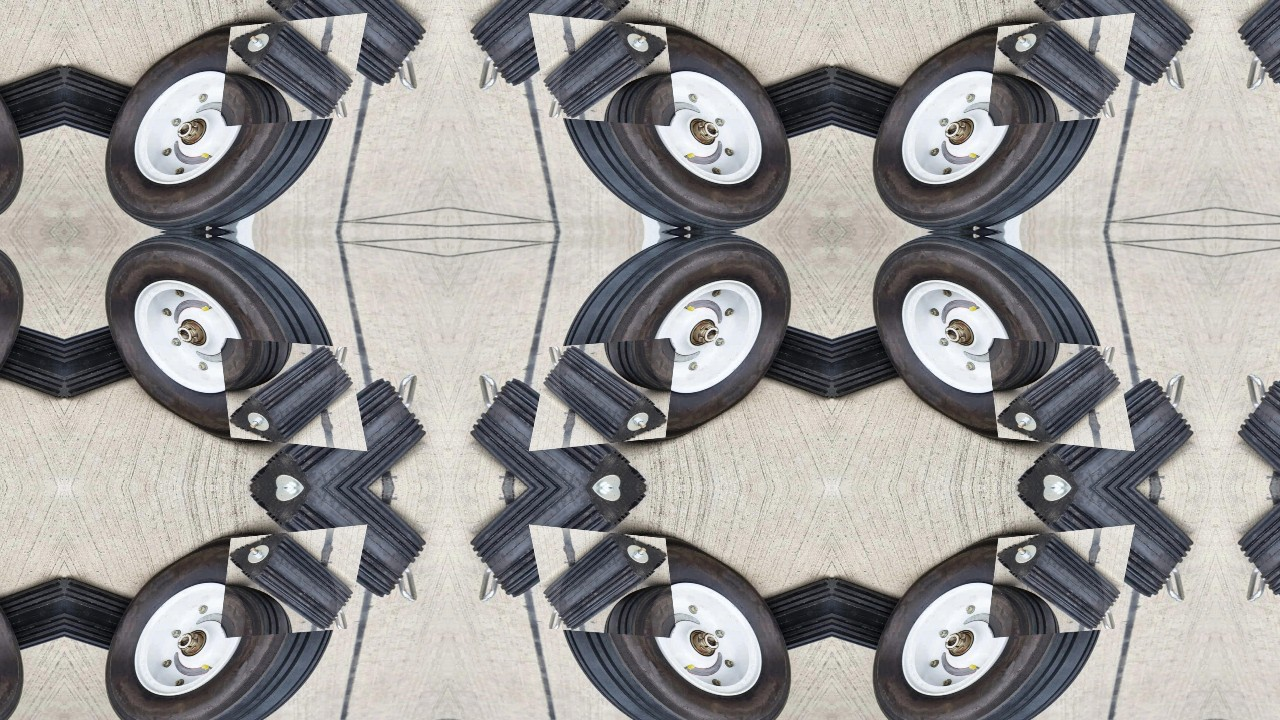chock: (227, 365, 448, 488), (448, 365, 669, 488), (995, 365, 1216, 488), (227, 488, 448, 611), (448, 488, 669, 611), (995, 488, 1216, 611), (227, 0, 448, 99), (448, 0, 669, 99), (995, 0, 1216, 99), (214, 12, 373, 127), (523, 12, 682, 127), (982, 12, 1141, 127), (214, 337, 373, 452), (523, 337, 682, 452), (982, 337, 1141, 452), (214, 524, 373, 639), (523, 524, 682, 639), (982, 524, 1141, 639), (64, 54, 183, 149), (713, 54, 832, 149), (832, 54, 951, 149), (64, 315, 183, 410), (713, 315, 832, 410), (832, 315, 951, 410), (64, 566, 183, 661), (713, 566, 832, 661), (832, 566, 951, 661), (1216, 365, 1280, 488), (1216, 488, 1280, 611), (1216, 0, 1280, 99), (0, 54, 64, 149), (0, 315, 64, 410), (0, 566, 64, 661)
wheel: (92, 7, 368, 232), (528, 7, 804, 232), (860, 7, 1136, 232), (92, 232, 368, 457), (528, 232, 804, 457), (860, 232, 1136, 457), (92, 519, 368, 720), (528, 519, 804, 720), (860, 519, 1136, 720), (0, 7, 36, 232), (0, 232, 36, 457), (0, 519, 36, 720)
